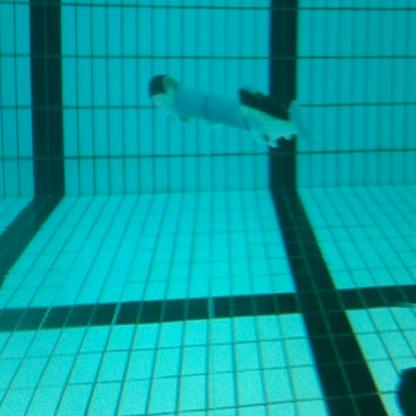tail: (237, 84, 313, 155)
